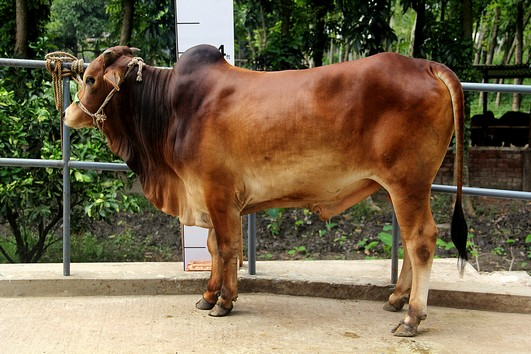cow: (59, 40, 469, 342)
